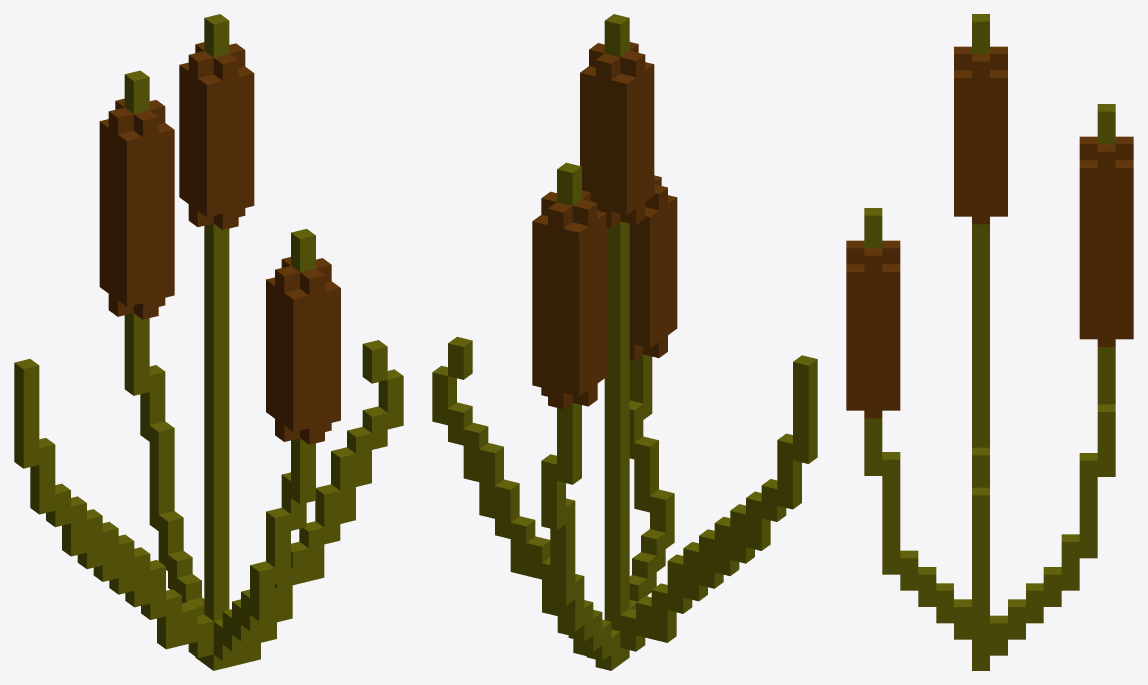
File: wodna_pala.obj
The picture shows the model from 3 angles, left to right: view 1: azimuth 30°, elevation 25°; view 2: azimuth 150°, elevation 25°; view 3: azimuth 270°, elevation 25°; orthographic projection.
Bounding box in the file's own units: 24 × 39 × 16.
